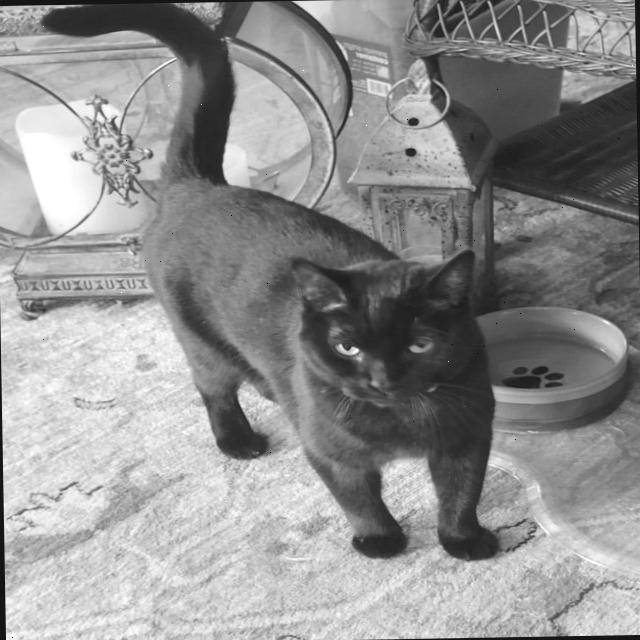bombay_cat: (278, 245, 496, 418)
